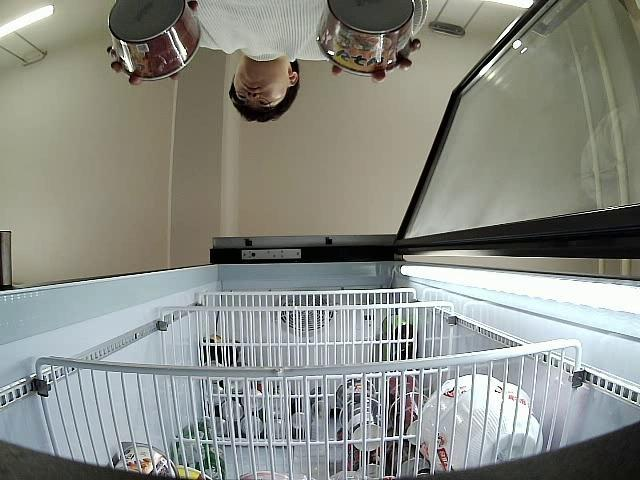05_nuguri_L: (315, 0, 416, 77), (108, 0, 201, 81)
